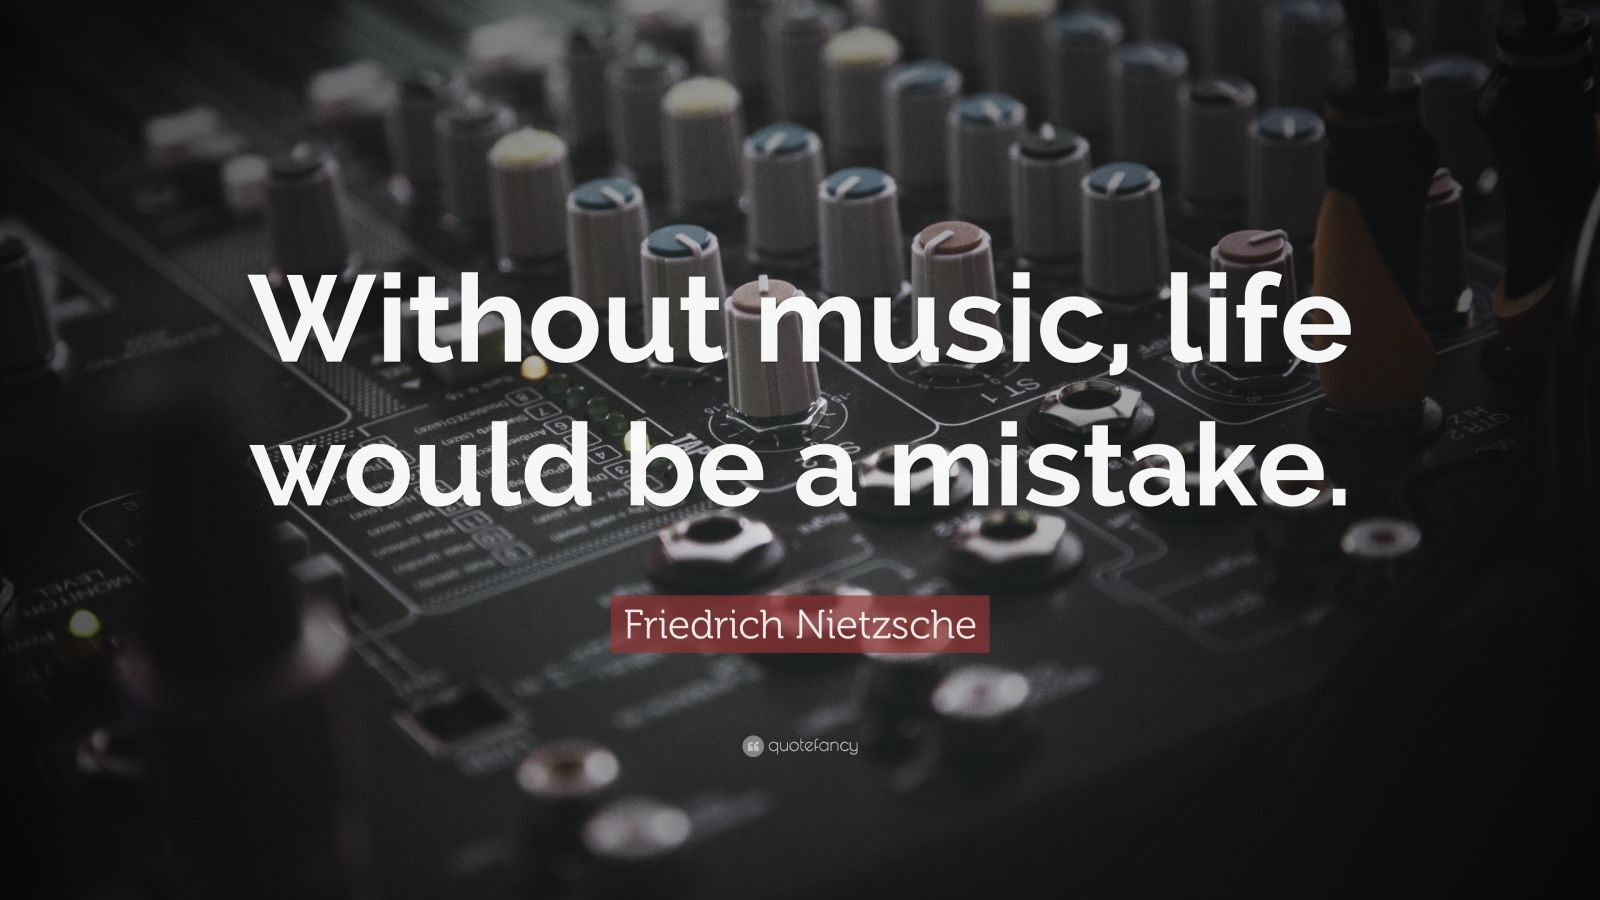latin: (243, 258, 1360, 521), (625, 607, 977, 645), (766, 732, 862, 758)
